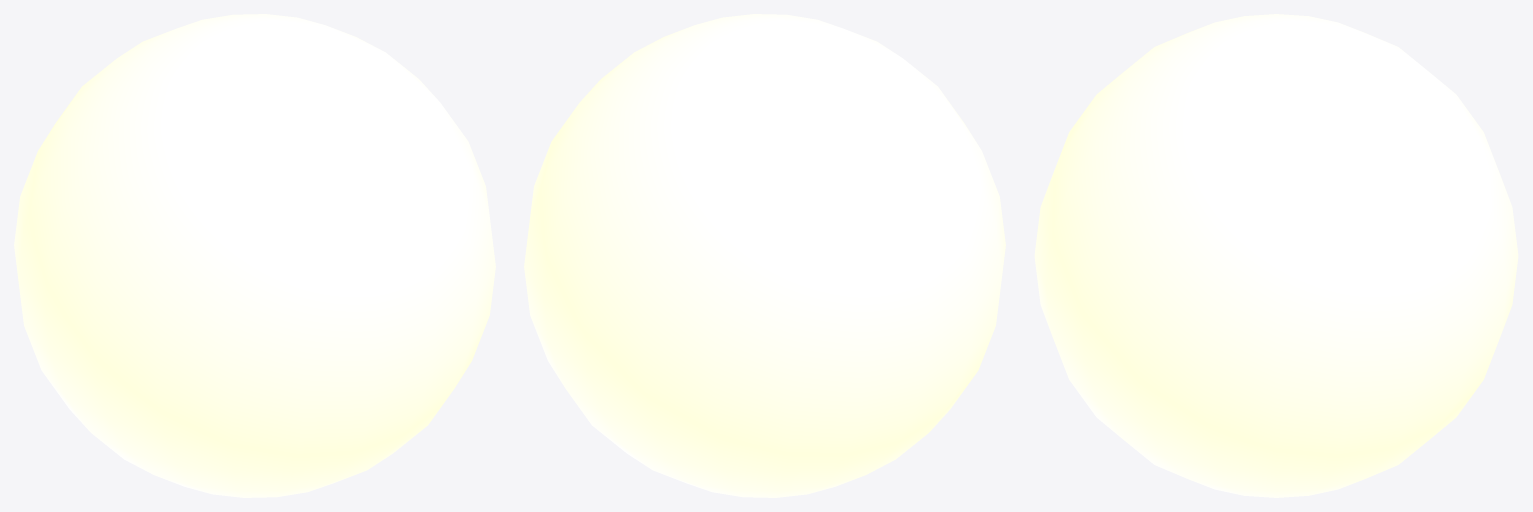
File: sun.glb
3 renders of one model, left to right at view 1: azimuth 30°, elevation 25°; view 2: azimuth 150°, elevation 25°; view 3: azimuth 270°, elevation 25°, orthographic.
Visible parts, largest first — view 1: sun; view 2: sun; view 3: sun.
Boxes of the visible parts, box(x1,y1,x2,y2) form: sun: box(14, 14, 495, 497); sun: box(524, 14, 1005, 497); sun: box(1034, 14, 1518, 497).
Bounding box in the file's own units: 4 × 4 × 4.
